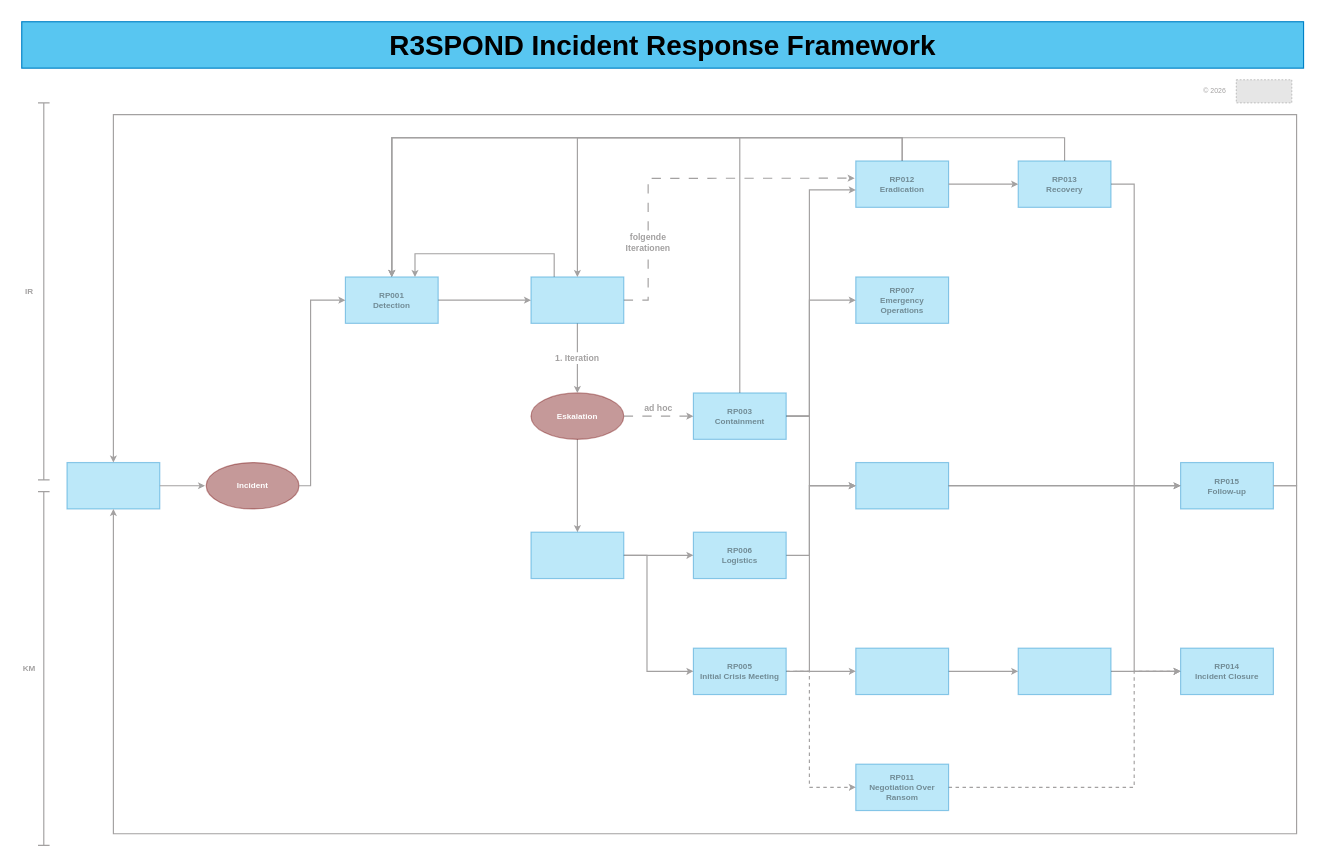
Image size: 1325x867. Some labels were removed from this diagram. Grey dashed boxes stand in for pictures. The centre of each missing label's shape, as x and y in pixels:
RP000 Preparation: the point at 113,485
RP002 Analysis: the point at 577,300
RP004 Activation of Crisis Management Team: the point at 577,555
RP008 Regular Crisis Meetings: the point at 902,485
RP009 Internal Communication: the point at 902,671
RP010 External Communication: the point at 1064,671
